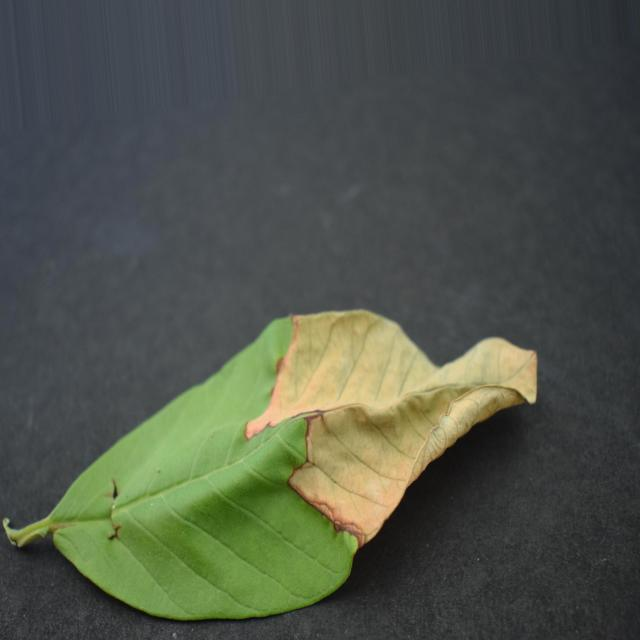Mummification: (4, 309, 536, 621)
